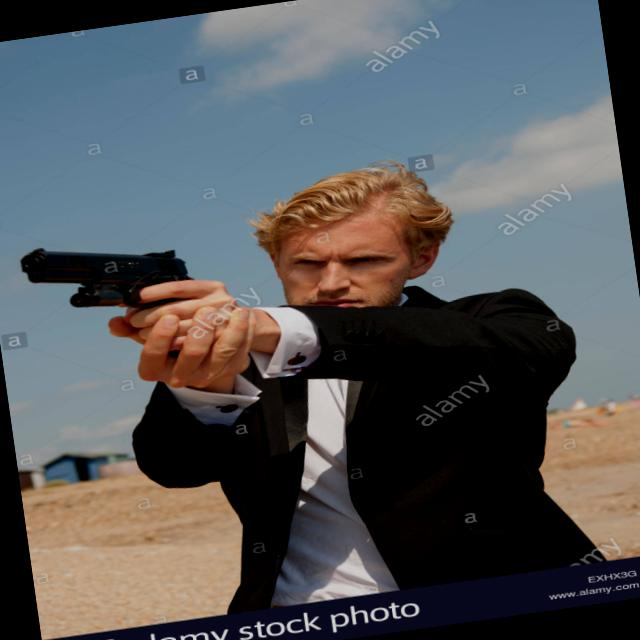handgun: (16, 225, 212, 332)
